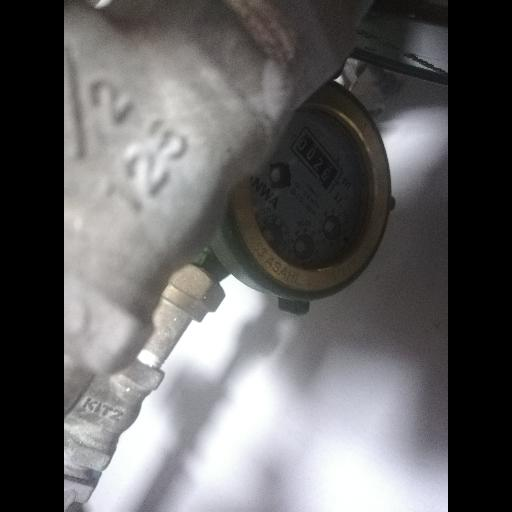0: (300, 141, 322, 166), (293, 132, 315, 156)
2: (308, 151, 331, 176)
6: (314, 160, 342, 190)
border_water_meter_number: (286, 126, 351, 194)
